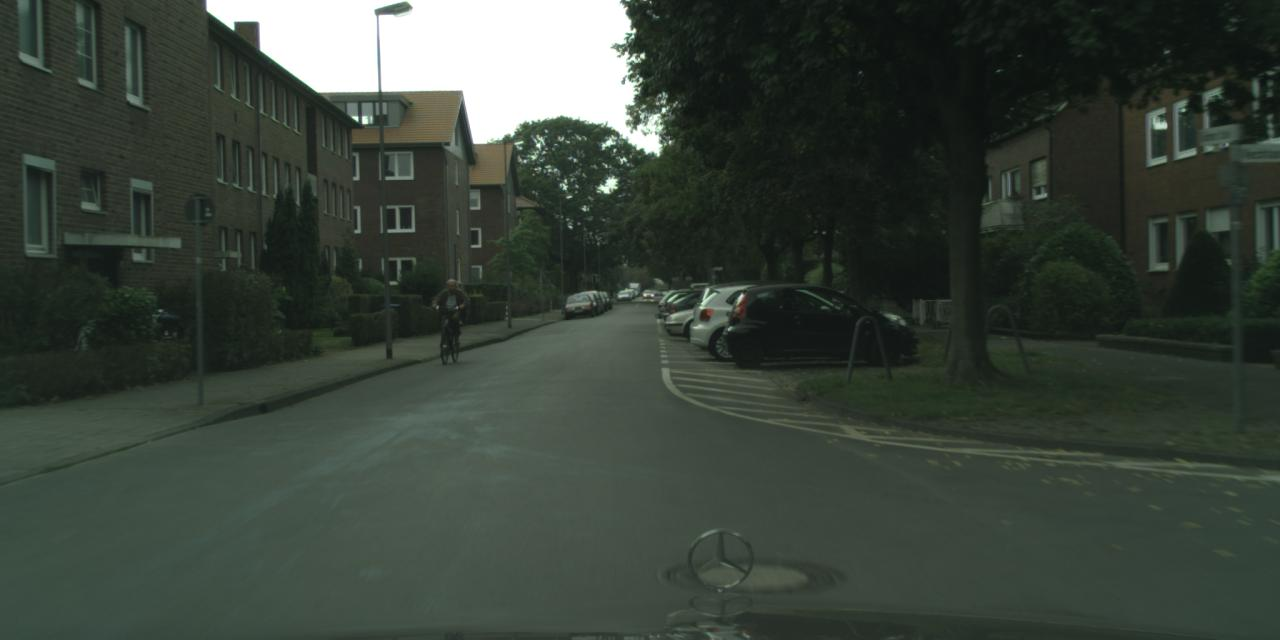ped: (437, 278, 464, 346)
